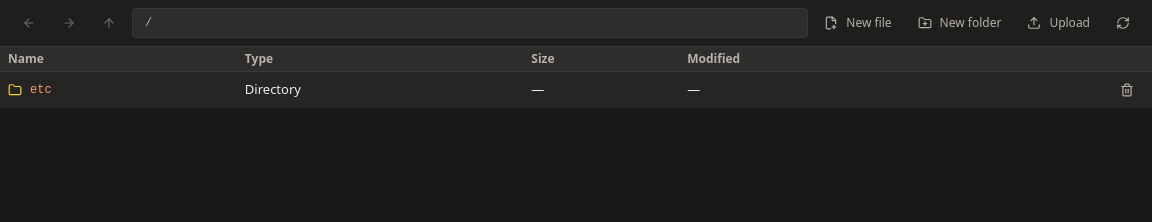
Test: FilesTab › navigates via breadcrumb segments
Click the button with test id "file-row-etc" at (41, 90), box x1=30 y1=82 x2=52 y2=98
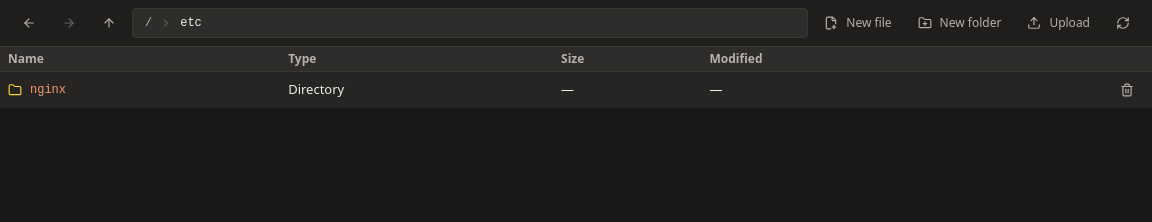
Expected: the button with test id "file-row-nginx" is shown
Click the button with test id "file-row-nginx" at (48, 90), box x1=30 y1=82 x2=66 y2=98
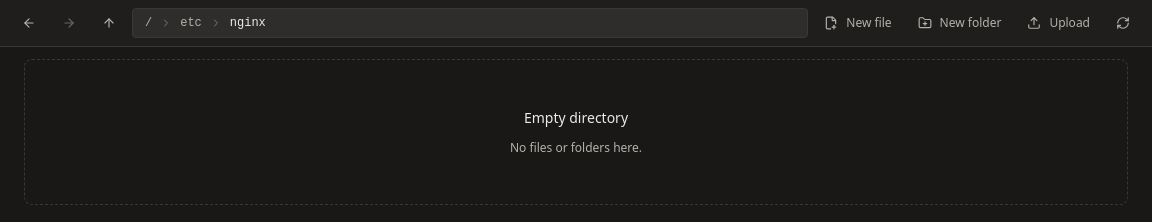
Expected: the button with test id "crumb-1" reads "nginx", x1=226 y1=15 x2=270 y2=31
Click the button with test id "crumb-root" at (149, 23), box x1=141 y1=15 x2=156 y2=31
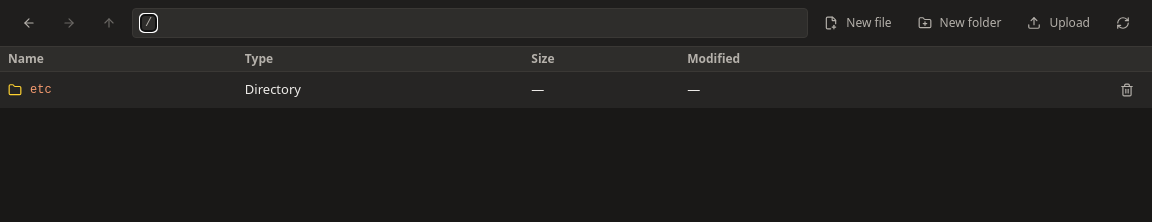
Expected: the button with test id "file-row-etc" is shown, x1=30 y1=82 x2=52 y2=98
Expected: the button with test id "crumb-0" is gone
